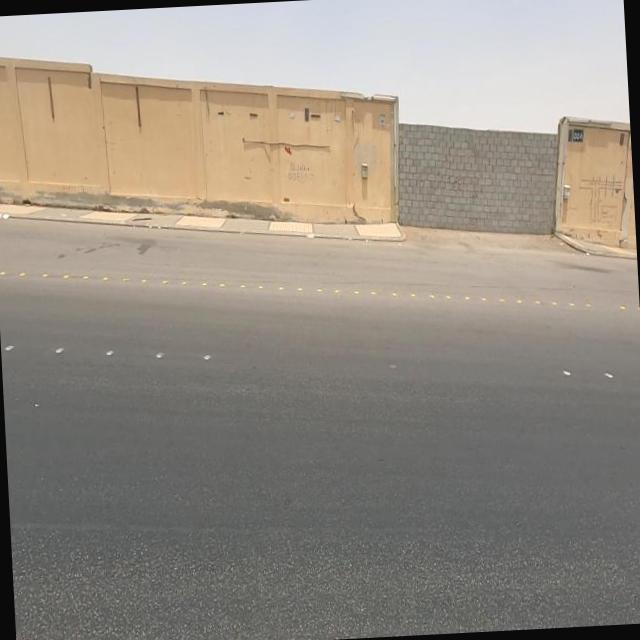debris: (252, 125, 344, 216)
